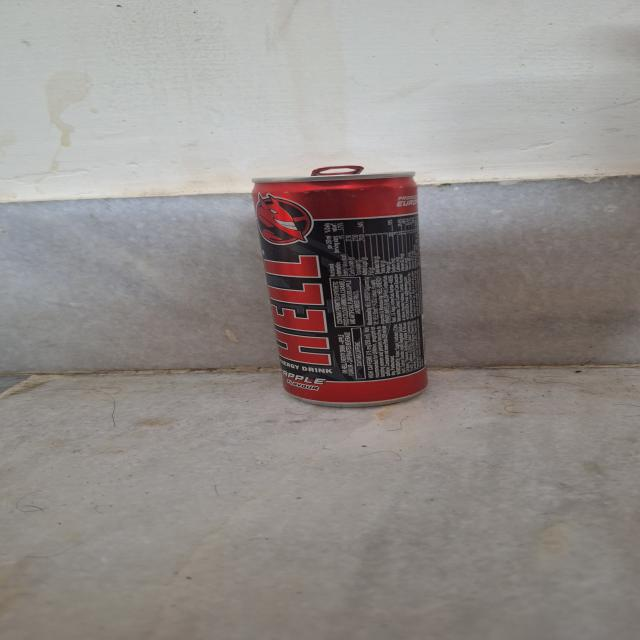Hell Apple: (228, 162, 442, 409)
